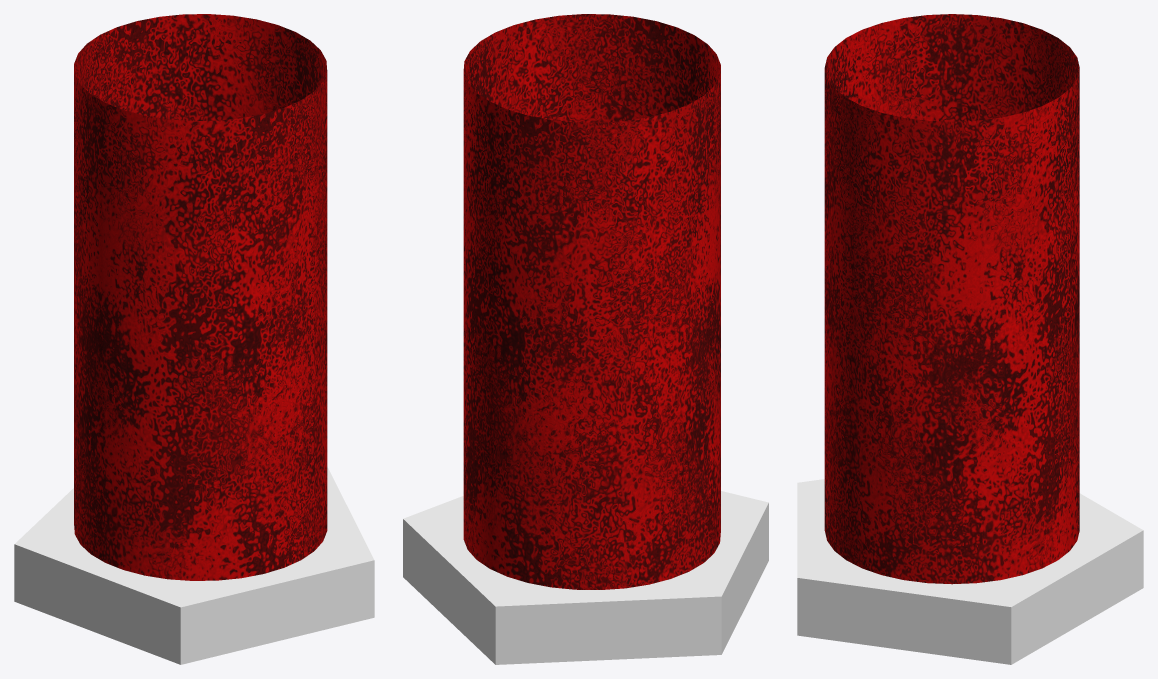
File: PortalField.glb
The picture shows the model from 3 angles, left to right: view 1: azimuth 30°, elevation 25°; view 2: azimuth 150°, elevation 25°; view 3: azimuth 270°, elevation 25°; orthographic projection.
Visible parts, largest first — view 1: Cylinder, Cylinder.001; view 2: Cylinder, Cylinder.001; view 3: Cylinder, Cylinder.001.
Part boxes in pixels (box(x1,y1,x2,y2)): Cylinder: box(74, 14, 327, 580); Cylinder.001: box(14, 467, 374, 664); Cylinder: box(463, 14, 720, 589); Cylinder.001: box(403, 491, 768, 664); Cylinder: box(824, 14, 1079, 584); Cylinder.001: box(797, 479, 1143, 664).
Bounding box in the file's own units: 2.85 × 4.5 × 2.71.
2 materials, 1 textured.
